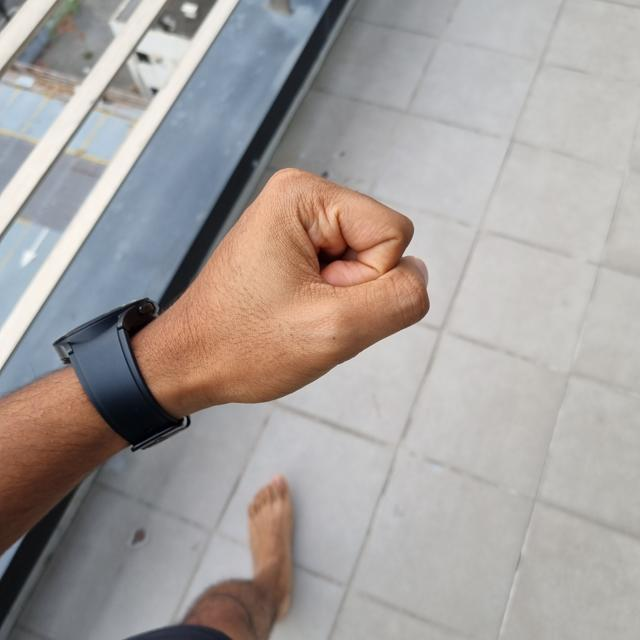Rock: (137, 170, 429, 638)
